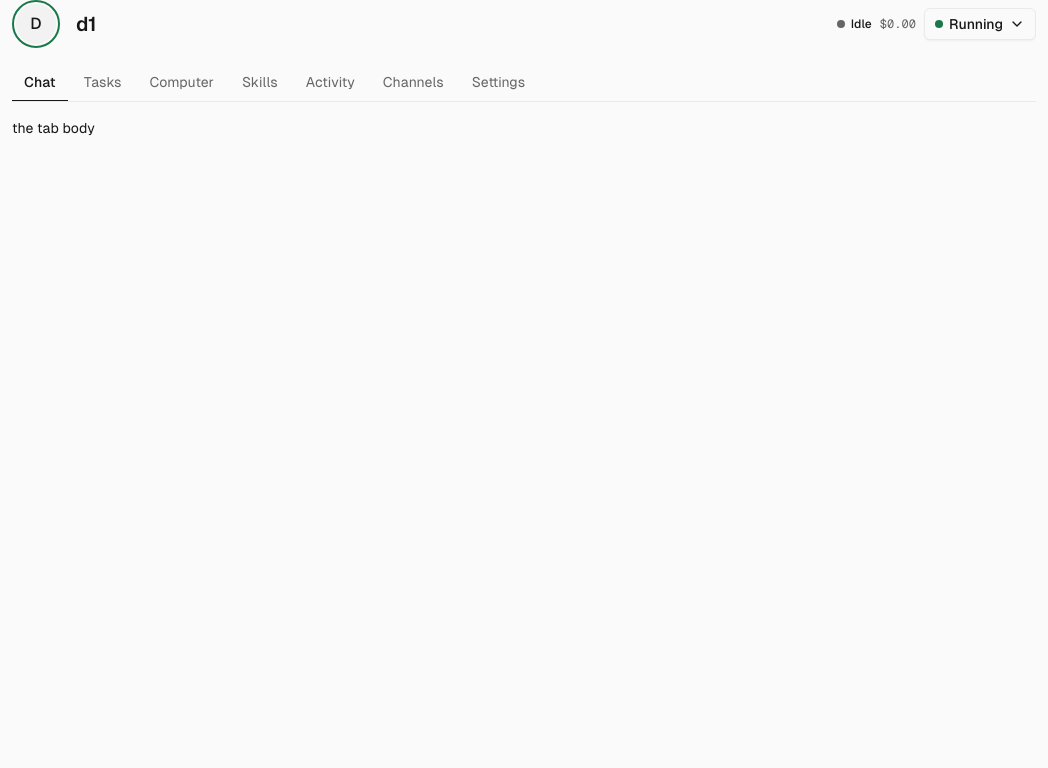
Test: the power menu › shows the control plane's refusal as a message
Check: the heading "d1" is shown, box [76,13,96,35]
Click the button "Running": (980, 24) [924,8,1036,40]
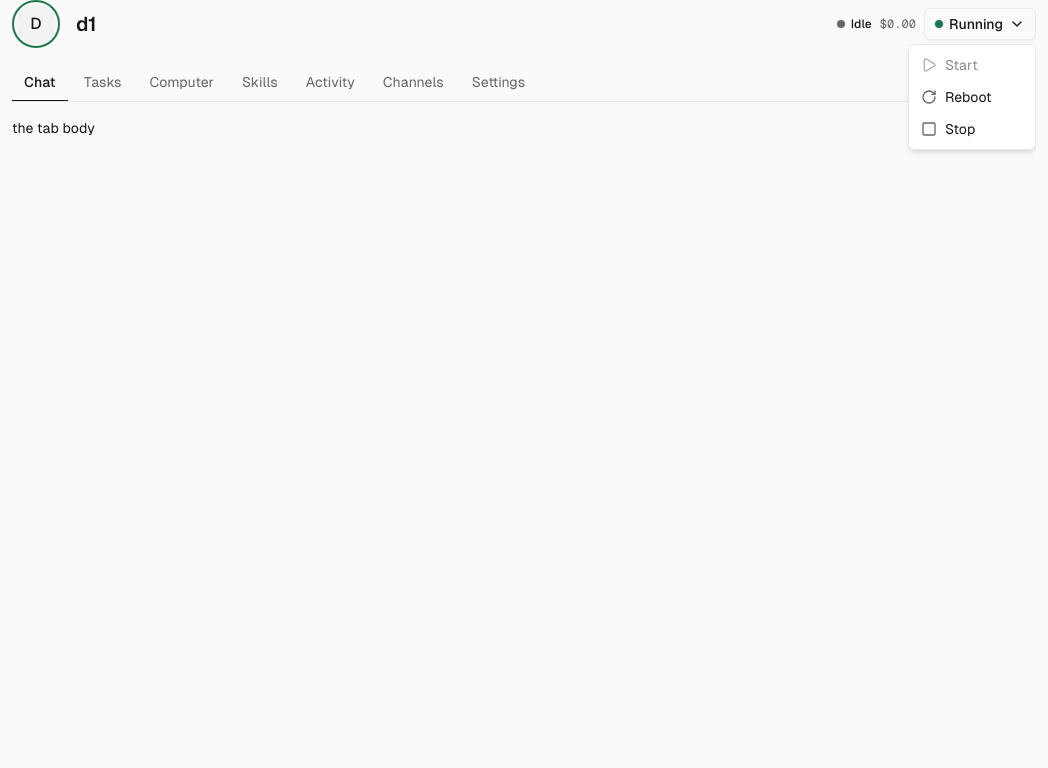
Click the menu item "Reboot": (956, 97) [921,89,992,105]
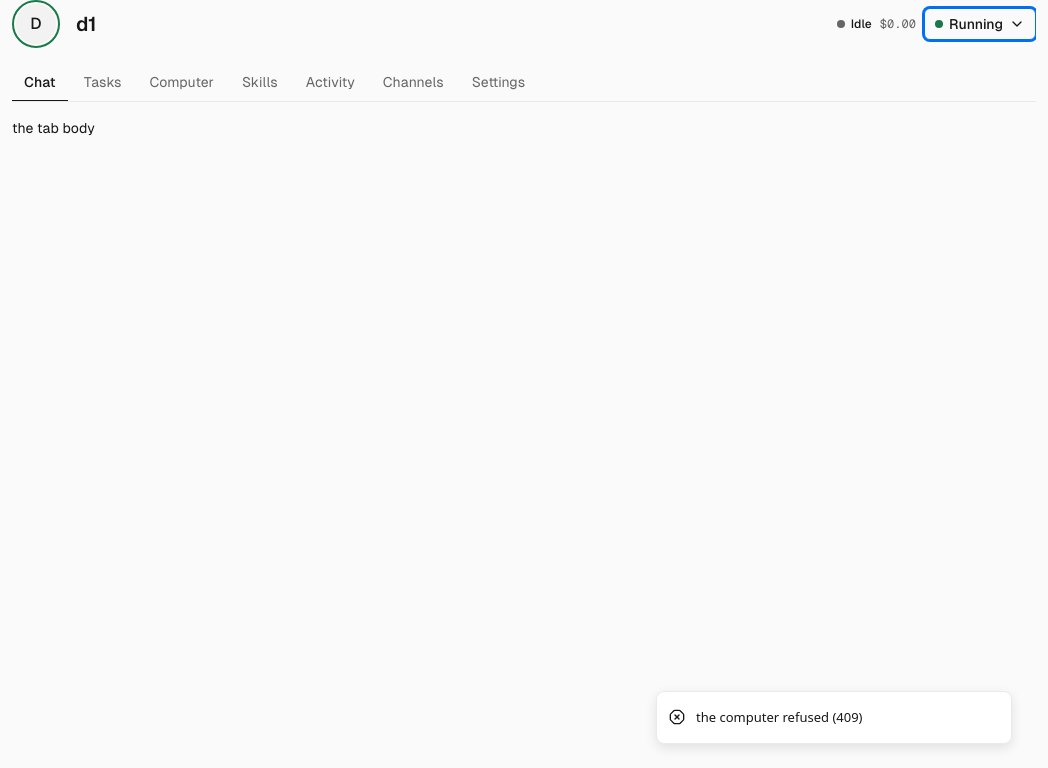
Check: the text "the computer refused (409)" is shown, box [696,708,862,727]
